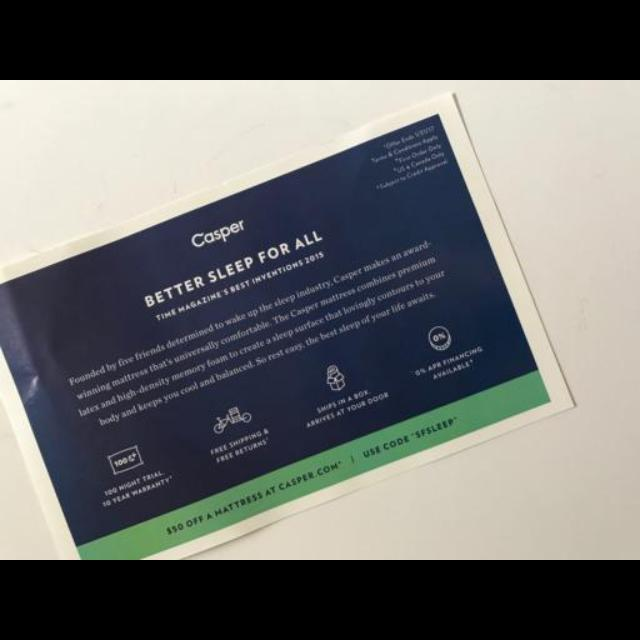papel: (0, 95, 572, 560)
